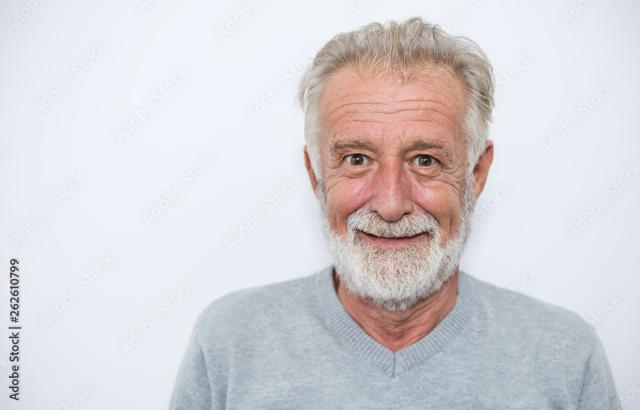crows_feet: (442, 160, 458, 182), (324, 156, 340, 177)
forehead: (392, 96, 423, 124), (328, 96, 356, 124), (428, 93, 452, 125), (360, 97, 386, 123)
gummy_smile: (415, 198, 437, 218), (347, 196, 371, 214)
